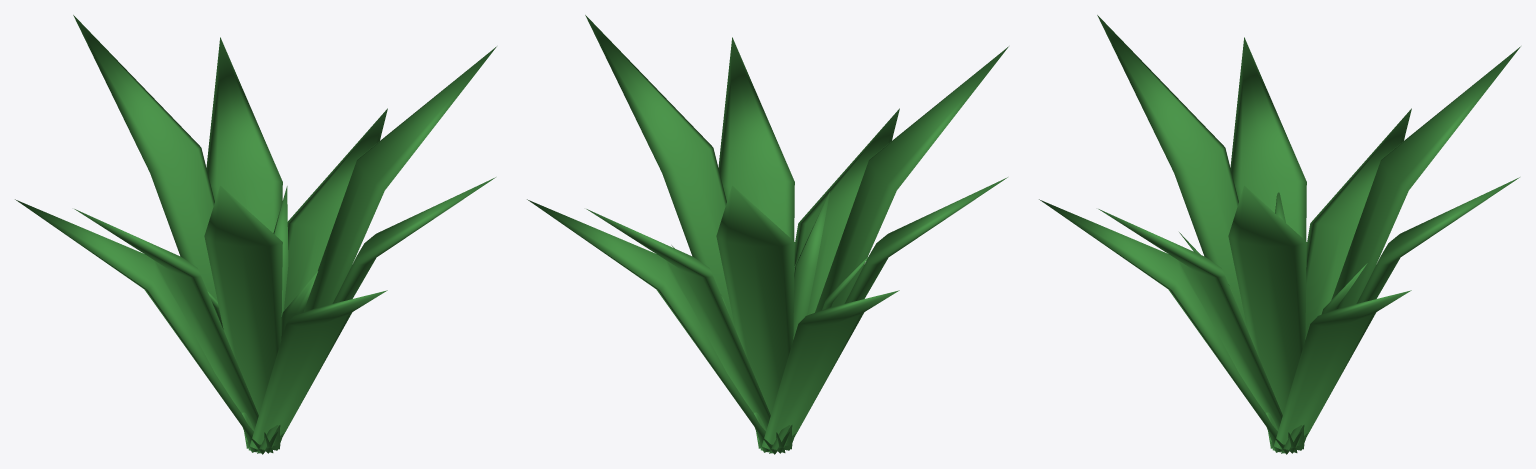
File: org_grass.glb
The picture shows the model from 3 angles, left to right: view 1: azimuth 30°, elevation 25°; view 2: azimuth 150°, elevation 25°; view 3: azimuth 270°, elevation 25°; orthographic projection.
Visible parts, largest first — view 1: Foliage; view 2: Foliage; view 3: Foliage.
Boxes of the visible parts, box(x1,y1,x2,y2) form: Foliage: box(15, 15, 496, 454); Foliage: box(527, 15, 1008, 454); Foliage: box(1039, 15, 1520, 454).
Size of the model in its own units: 0.3624 by 0.2994 by 0.3569.
